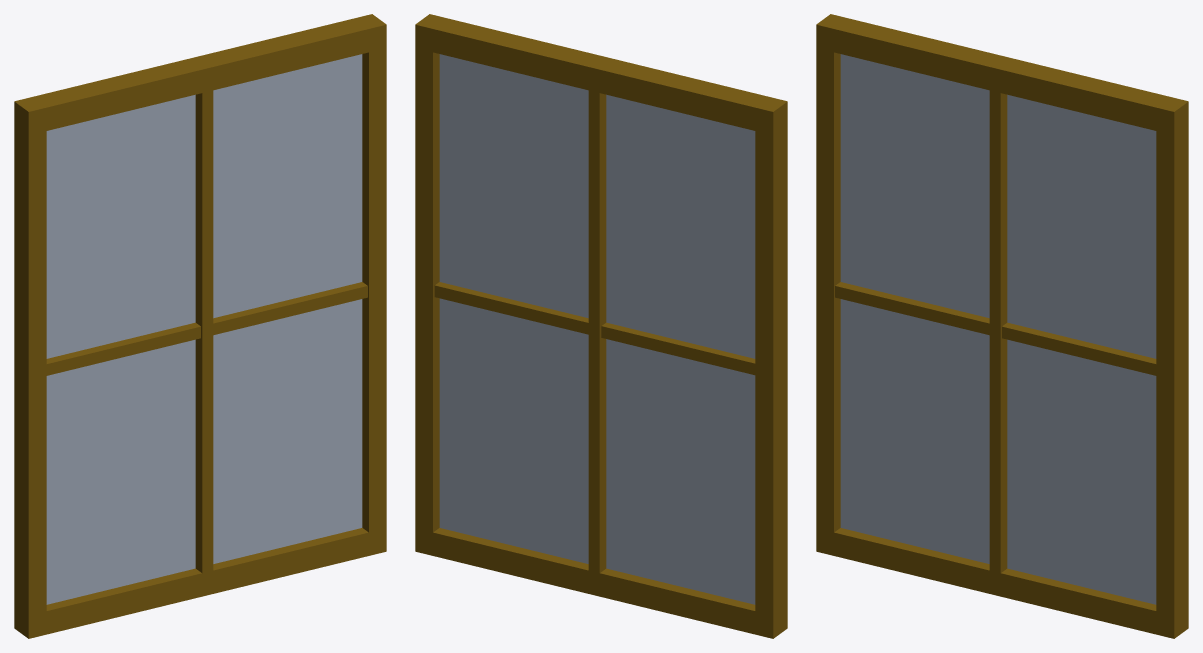
The model's file is Classic_Window_01.fbx.
3 renders of one model, left to right at view 1: azimuth 30°, elevation 25°; view 2: azimuth 150°, elevation 25°; view 3: azimuth 330°, elevation 25°, orthographic.
Parts seen in each view (by area): view 1: Classic_Window_01_Glass_01, Classic_Window_01; view 2: Classic_Window_01_Glass_01, Classic_Window_01; view 3: Classic_Window_01_Glass_01, Classic_Window_01.
Part boxes in pixels (bbox=[...]): Classic_Window_01_Glass_01: bbox=[46, 54, 362, 604]; Classic_Window_01: bbox=[14, 14, 386, 638]; Classic_Window_01_Glass_01: bbox=[439, 54, 755, 604]; Classic_Window_01: bbox=[415, 14, 787, 638]; Classic_Window_01_Glass_01: bbox=[840, 54, 1156, 604]; Classic_Window_01: bbox=[816, 14, 1188, 638].
Size of the model in its own units: 100 by 141 by 7.03.
